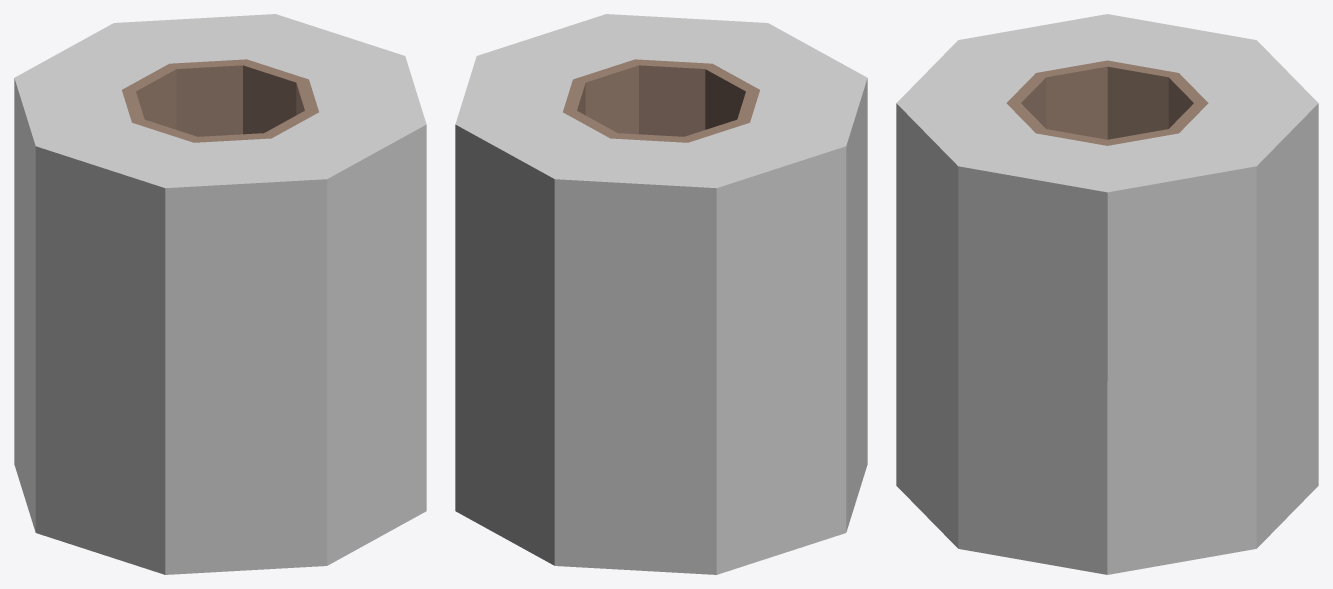
Rendered from papel higienico.fbx.
3 views of the same model, side by side, from view 1: azimuth 30°, elevation 25°; view 2: azimuth 150°, elevation 25°; view 3: azimuth 270°, elevation 25° (orthographic).
Visible parts, largest first — view 1: Cylinder; view 2: Cylinder; view 3: Cylinder.
Part boxes in pixels (x1,y1,x2,y2): Cylinder: (14,14,426,574); Cylinder: (455,14,867,574); Cylinder: (896,14,1318,574).
Size of the model in its own units: 16.04 by 16.04 by 16.04.
